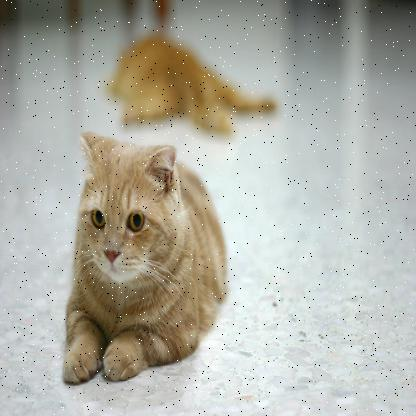cat: (57, 122, 241, 406)
